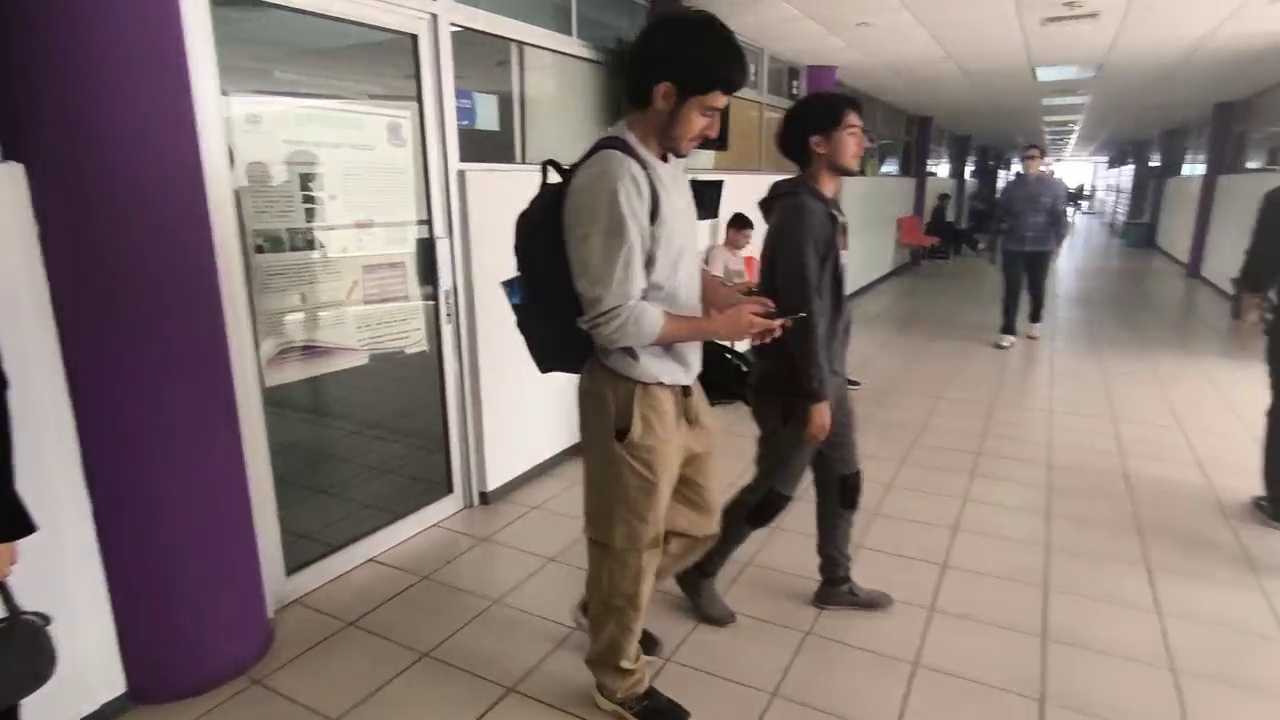mixto2: (760, 299, 816, 328)
